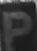Parking: (1, 4, 33, 45)
